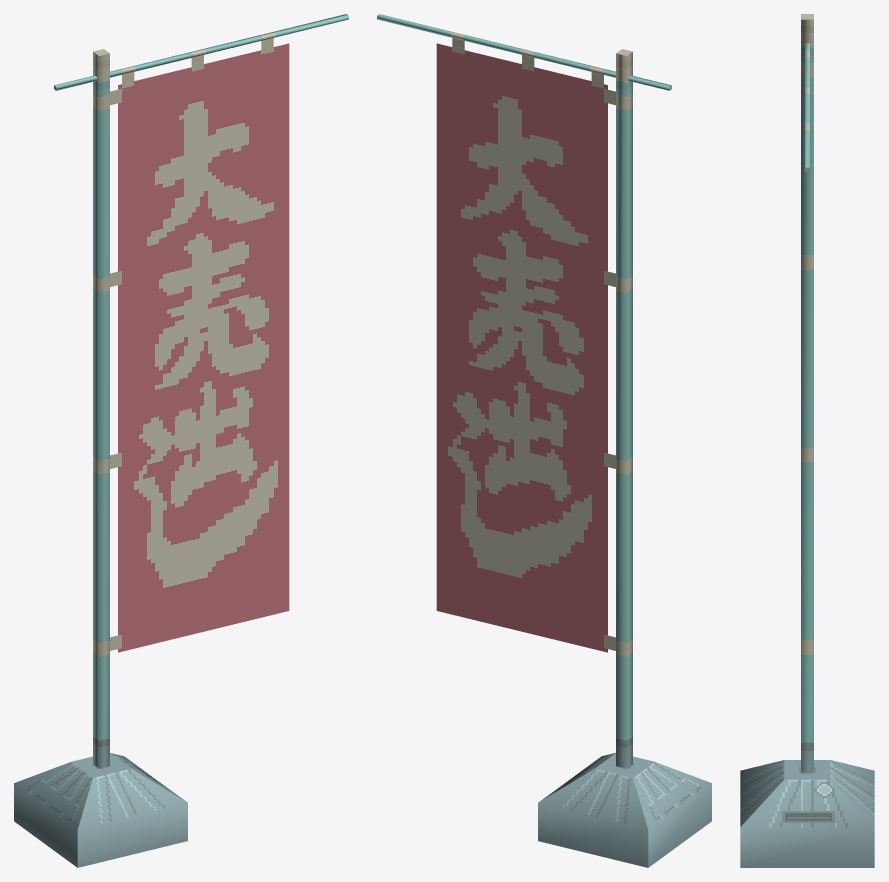
The model's file is 018b_On_Sale_Banner.glb.
The picture shows the model from 3 angles, left to right: view 1: azimuth 30°, elevation 25°; view 2: azimuth 150°, elevation 25°; view 3: azimuth 270°, elevation 25°; orthographic projection. The views are drawn at different scales.
Visible parts, largest first — view 1: part_0; view 2: part_0; view 3: part_0.
Part boxes in pixels (x1,y1,x2,y2): part_0: [14, 14, 348, 867]; part_0: [377, 14, 711, 867]; part_0: [740, 14, 874, 867].
Bounding box in the file's own units: 0.9577 × 2.36 × 0.35.
Materials: 1 (1 with a texture image).
